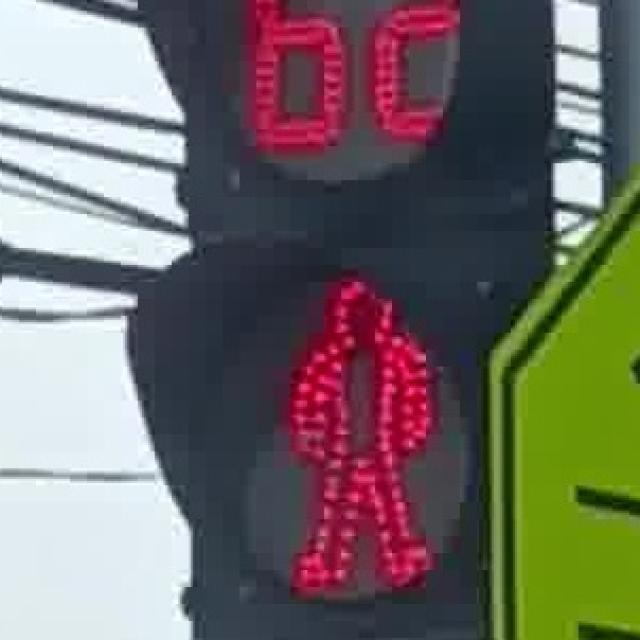red-crossing: (264, 258, 448, 594)
